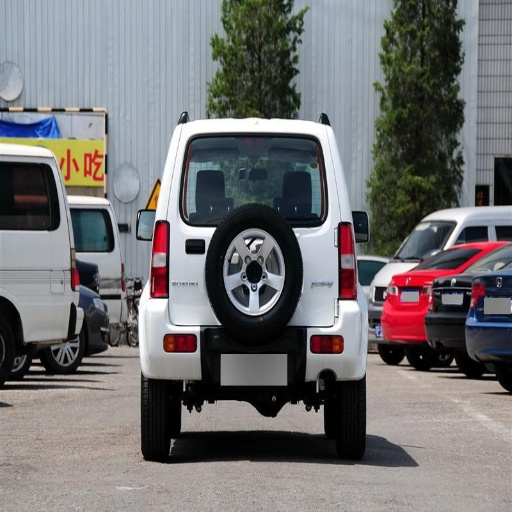back_bumper: (301, 225, 333, 278)
tailgate: (391, 244, 479, 299)
trunk: (171, 155, 318, 245), (2, 233, 79, 341)
